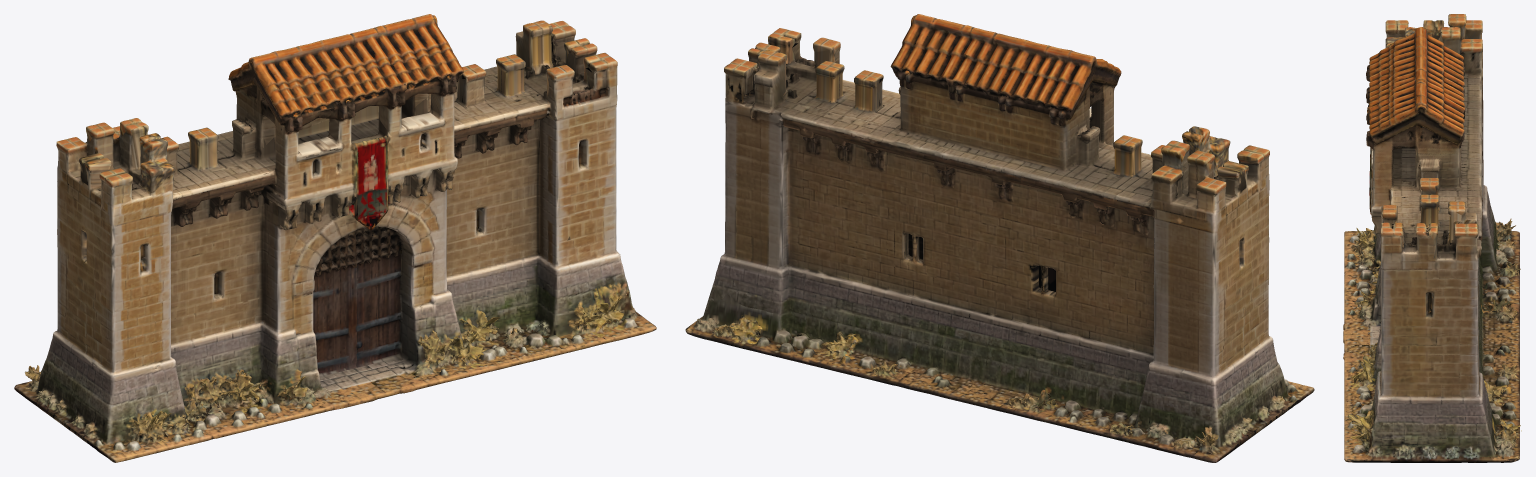
Rendered from SM_MurallaUrbana.fbx.
3 views of the same model, side by side, from view 1: azimuth 30°, elevation 25°; view 2: azimuth 150°, elevation 25°; view 3: azimuth 270°, elevation 25° (orthographic). The views are drawn at different scales.
Parts seen in each view (by area): view 1: SM_MurallaUrbana; view 2: SM_MurallaUrbana; view 3: SM_MurallaUrbana.
Boxes of the visible parts, box(x1,y1,x2,y2) form: SM_MurallaUrbana: box(14, 14, 656, 462); SM_MurallaUrbana: box(685, 14, 1314, 462); SM_MurallaUrbana: box(1343, 14, 1521, 462).
Bounding box in the file's own units: 99.97 × 58.02 × 32.92.
Materials: 1 (1 with a texture image).
